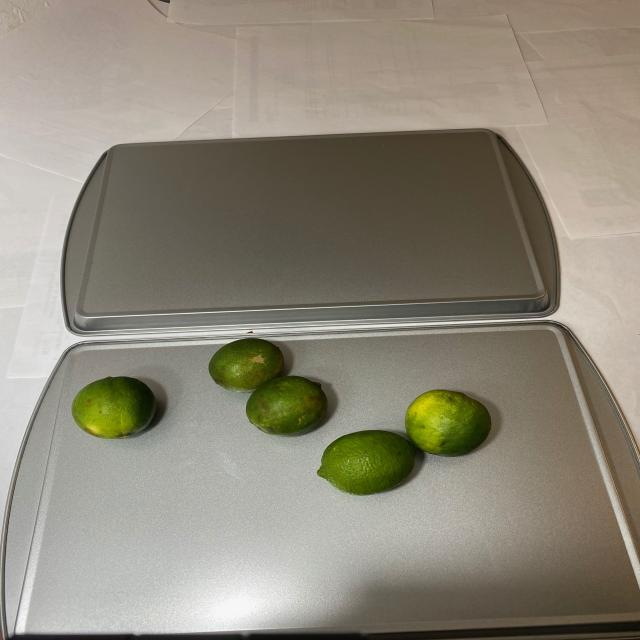lemon: (203, 337, 498, 496), (69, 375, 157, 442)
